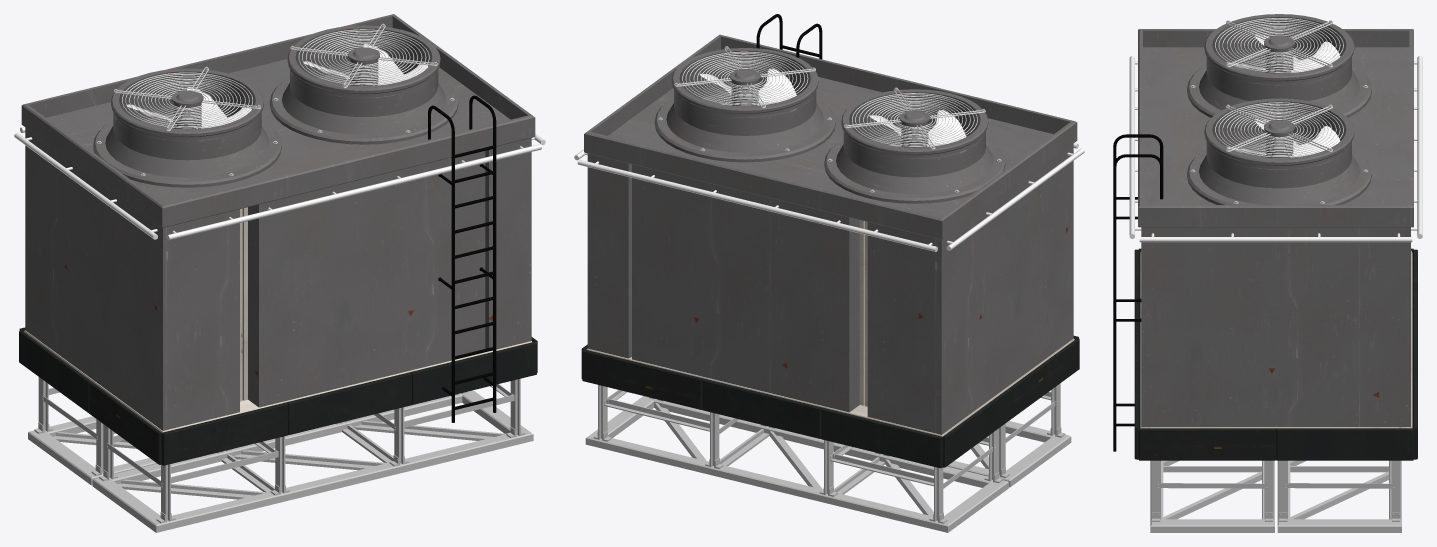
Rendered from KB3D_CBP_ACunit_G.fbx.
3 views of the same model, side by side, from view 1: azimuth 30°, elevation 25°; view 2: azimuth 150°, elevation 25°; view 3: azimuth 270°, elevation 25° (orthographic). The views are drawn at different scales.
Parts seen in each view (by area): view 1: KB3D_CBP_ACunit_G_Main; view 2: KB3D_CBP_ACunit_G_Main; view 3: KB3D_CBP_ACunit_G_Main.
Boxes of the visible parts, bbox=[...] form: KB3D_CBP_ACunit_G_Main: bbox=[14, 14, 545, 532]; KB3D_CBP_ACunit_G_Main: bbox=[574, 14, 1084, 532]; KB3D_CBP_ACunit_G_Main: bbox=[1113, 14, 1422, 532].
Bounding box in the file's own units: 475 × 422 × 331.
